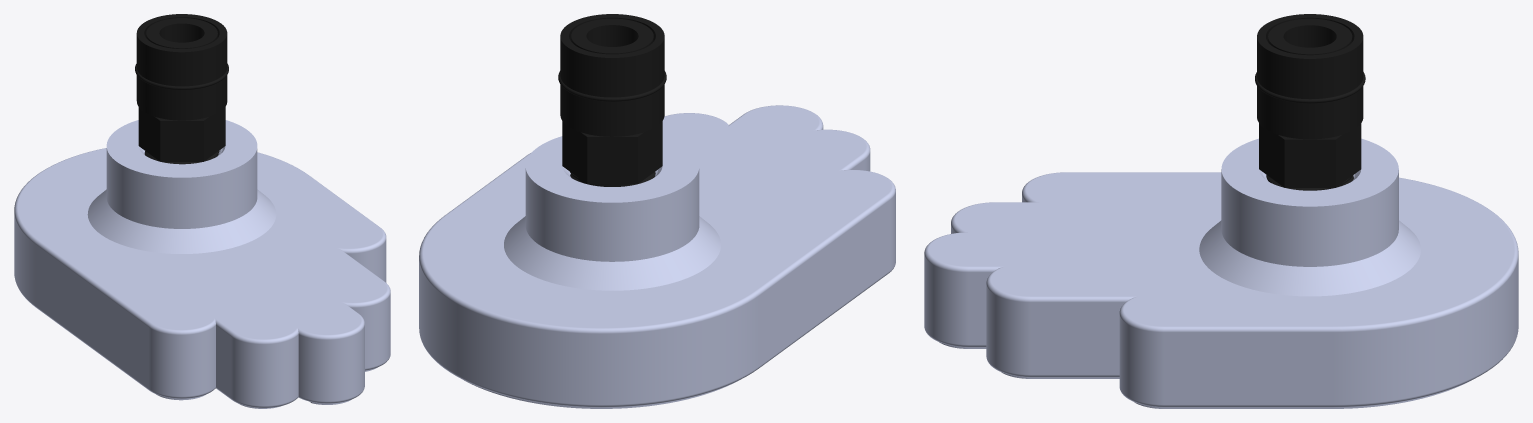
Rendered from hand.obj.
3 views of the same model, side by side, from view 1: azimuth 30°, elevation 25°; view 2: azimuth 150°, elevation 25°; view 3: azimuth 270°, elevation 25° (orthographic). The views are drawn at different scales.
Parts seen in each view (by area): view 1: Body1:1, Body2, Body1; view 2: Body1:1, Body2, Body1; view 3: Body1:1, Body2, Body1.
Boxes of the visible parts, x1,y1,x2,y2 form: Body1:1: [14, 120, 390, 408]; Body2: [135, 14, 228, 120]; Body1: [138, 18, 225, 164]; Body1:1: [419, 105, 895, 408]; Body2: [558, 14, 666, 136]; Body1: [562, 18, 662, 186]; Body1:1: [924, 138, 1518, 408]; Body2: [1255, 14, 1365, 139]; Body1: [1259, 18, 1361, 190].
Bounding box in the file's own units: 0.084 × 0.074 × 0.134.
